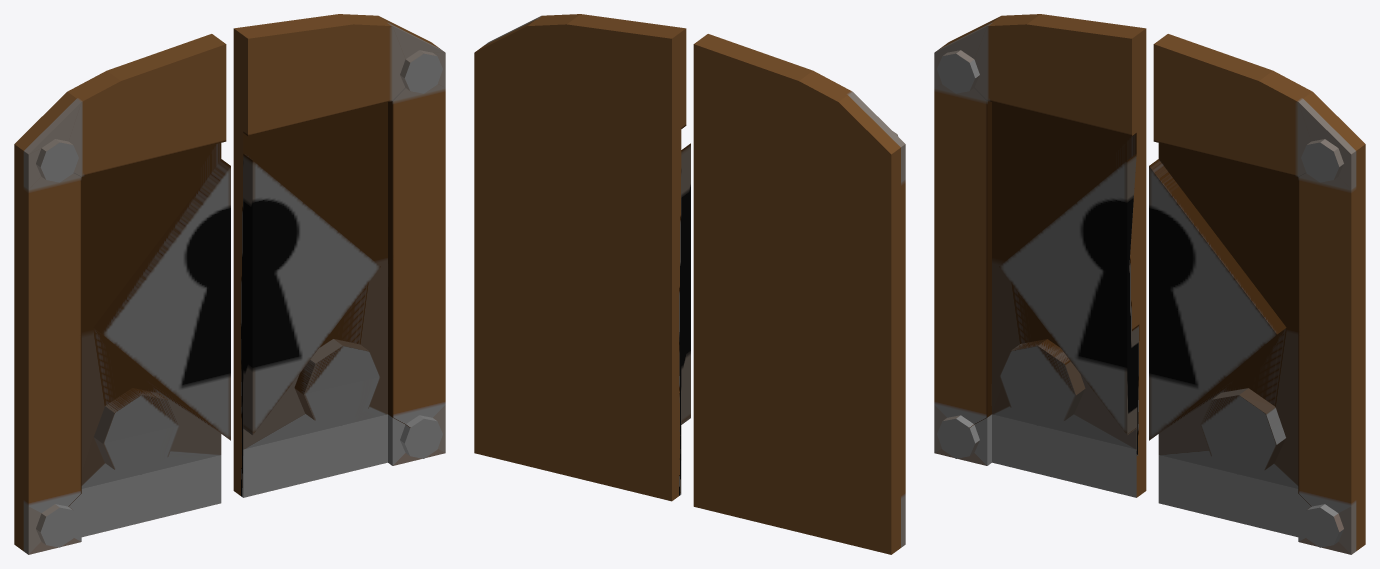
The model's file is locked door-2.fbx.
3 renders of one model, left to right at view 1: azimuth 30°, elevation 25°; view 2: azimuth 150°, elevation 25°; view 3: azimuth 330°, elevation 25°, orthographic.
Parts seen in each view (by area): view 1: polySurface1, polySurface2; view 2: polySurface1, polySurface2; view 3: polySurface2, polySurface1.
Boxes of the visible parts, box(x1,y1,x2,y2) form: polySurface1: box(14, 34, 230, 554); polySurface2: box(233, 14, 445, 497); polySurface1: box(693, 34, 905, 554); polySurface2: box(474, 14, 690, 501); polySurface2: box(1149, 34, 1365, 554); polySurface1: box(934, 14, 1146, 497).
Size of the model in its own units: 12.66 by 13.42 by 1.
Materials: 1 (1 with a texture image).
